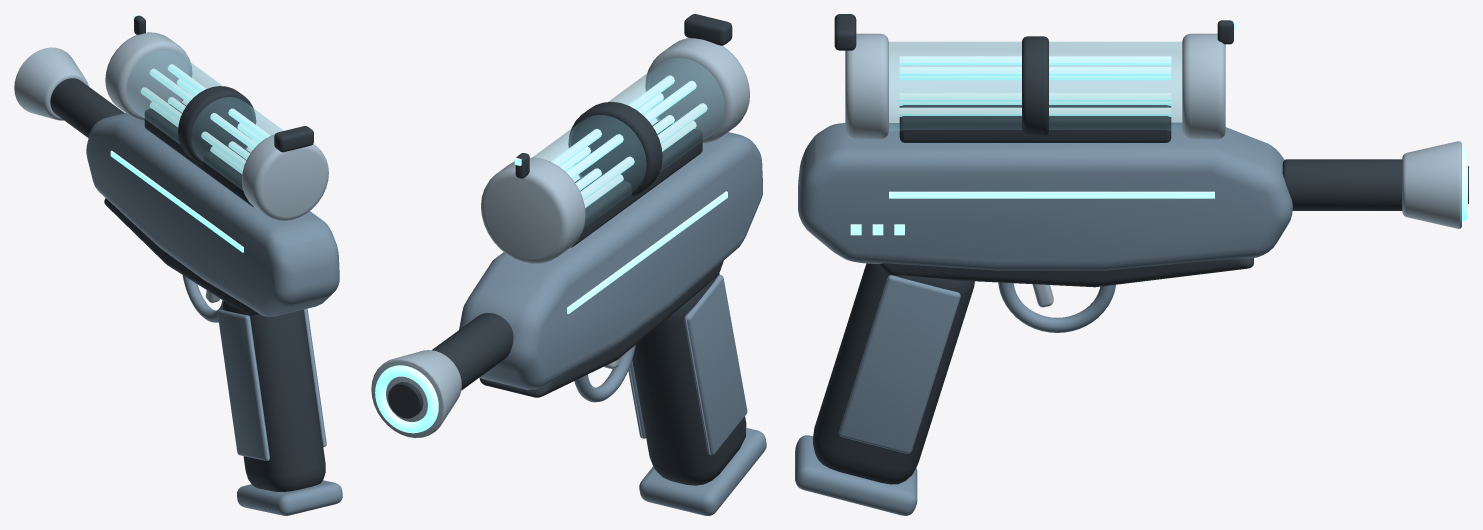
Rendered from asp_flechette_gun.glb.
3 views of the same model, side by side, from view 1: azimuth 30°, elevation 25°; view 2: azimuth 150°, elevation 25°; view 3: azimuth 270°, elevation 25° (orthographic). The views are drawn at different scales.
Parts seen in each view (by area): view 1: asp_flechette_gun; view 2: asp_flechette_gun; view 3: asp_flechette_gun.
Part boxes in pixels (left/top/right/bottom): asp_flechette_gun: left=14, top=14, right=342, bottom=515; asp_flechette_gun: left=371, top=14, right=766, bottom=515; asp_flechette_gun: left=795, top=14, right=1468, bottom=515.
Bounding box in the file's own units: 0.039 × 0.1947 × 0.248.
